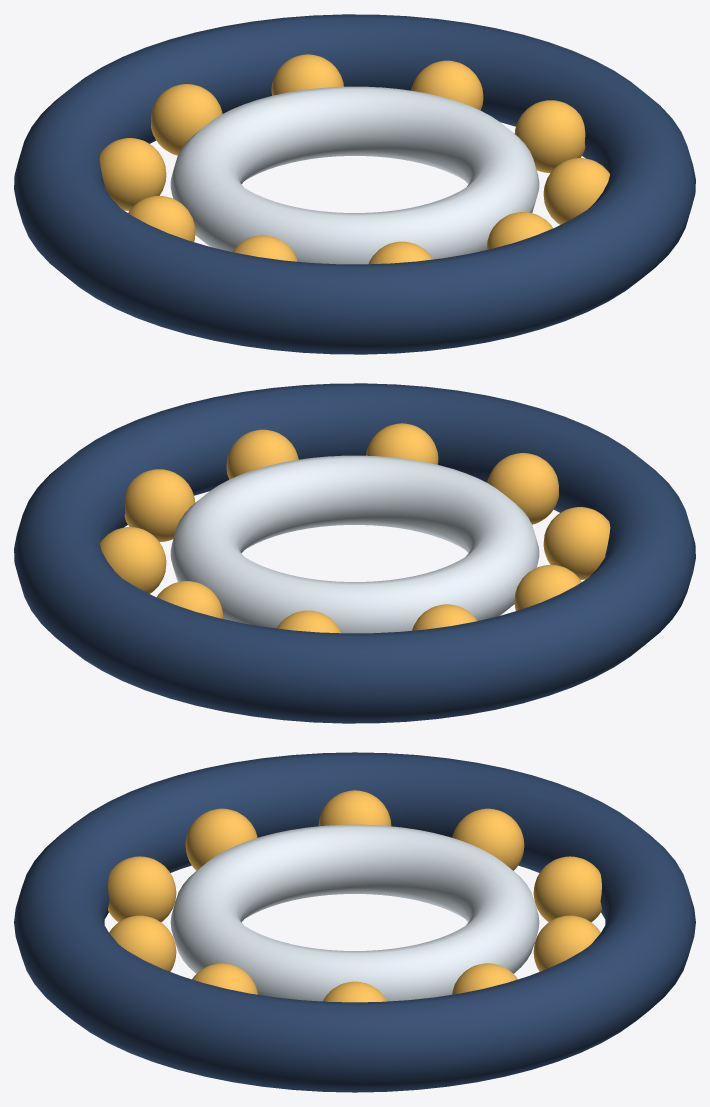
File: ball-bearing-quality.glb
The picture shows the model from 3 angles, top to bottom: view 1: azimuth 30°, elevation 25°; view 2: azimuth 150°, elevation 25°; view 3: azimuth 270°, elevation 25°; orthographic projection.
Visible parts, largest first — view 1: Outer race; view 2: Outer race; view 3: Outer race.
Part boxes in pixels (left/top/right/bottom): Outer race: left=14, top=14, right=695, bottom=354; Outer race: left=14, top=383, right=695, bottom=723; Outer race: left=14, top=752, right=695, bottom=1092.
Size of the model in its own units: 1.96 by 0.26 by 1.96.
